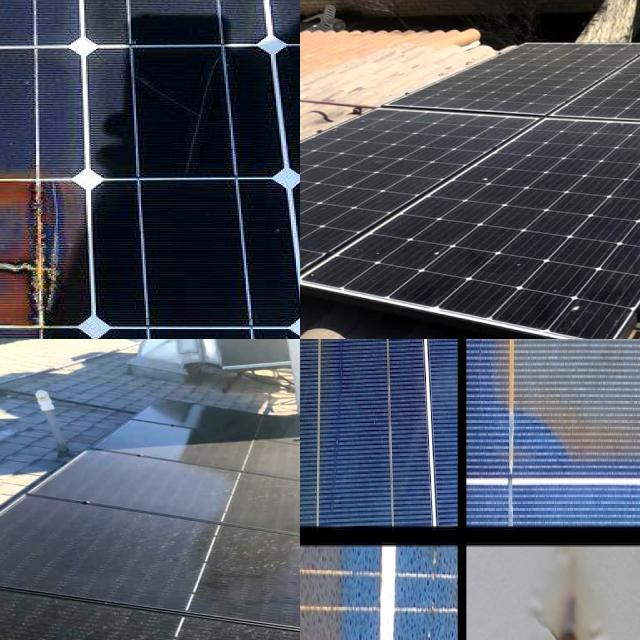dust: (0, 585, 177, 640), (223, 510, 300, 588), (539, 286, 637, 339)
shadow: (488, 339, 640, 503), (0, 162, 128, 339), (0, 183, 87, 322), (300, 339, 359, 496), (541, 593, 599, 640)
